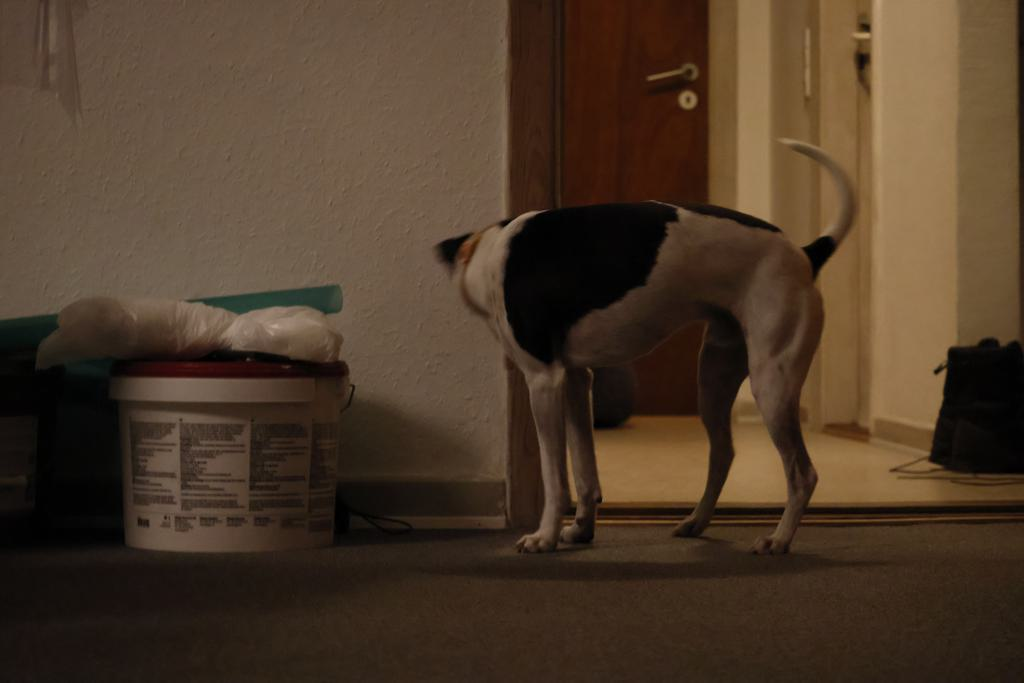Dog: (414, 130, 877, 566)
